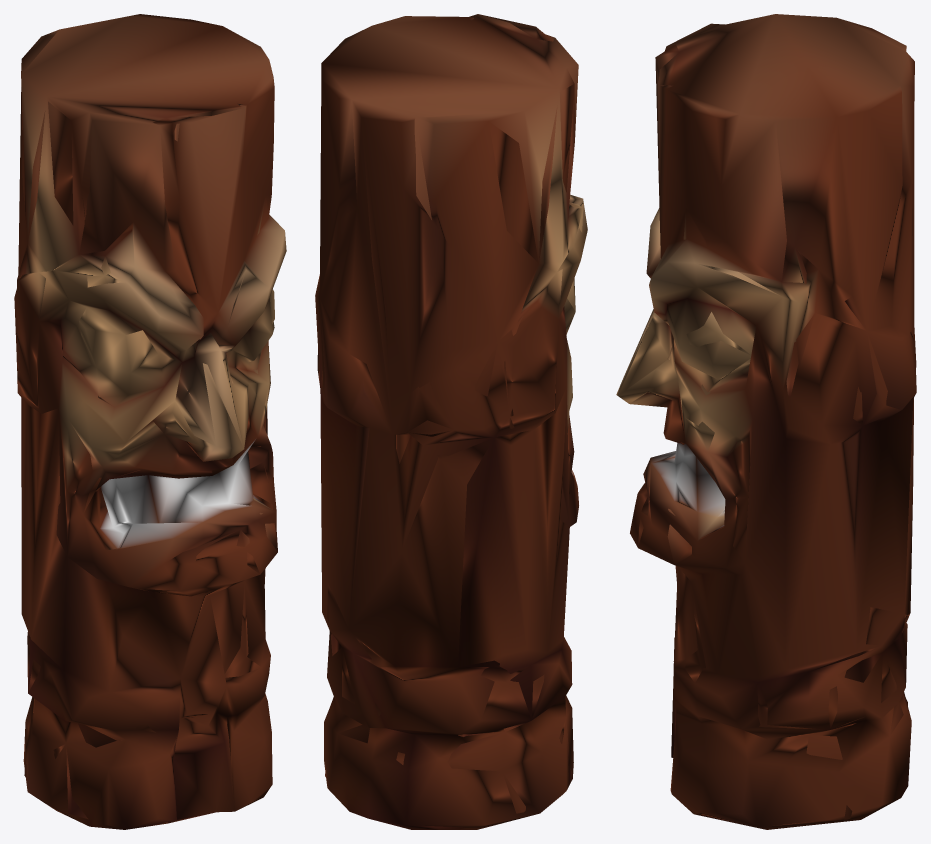
Rendered from gen3d-tiki-totem-lod1.glb.
3 renders of one model, left to right at view 1: azimuth 30°, elevation 25°; view 2: azimuth 150°, elevation 25°; view 3: azimuth 270°, elevation 25°, orthographic.
Parts seen in each view (by area): view 1: part_0; view 2: part_0; view 3: part_0.
Boxes of the visible parts, x1=… form: part_0: x1=14, y1=14, x2=286, y2=829; part_0: x1=315, y1=14, x2=587, y2=829; part_0: x1=616, y1=14, x2=916, y2=829.
Bounding box in the file's own units: 0.3245 × 0.9998 × 0.3805.
